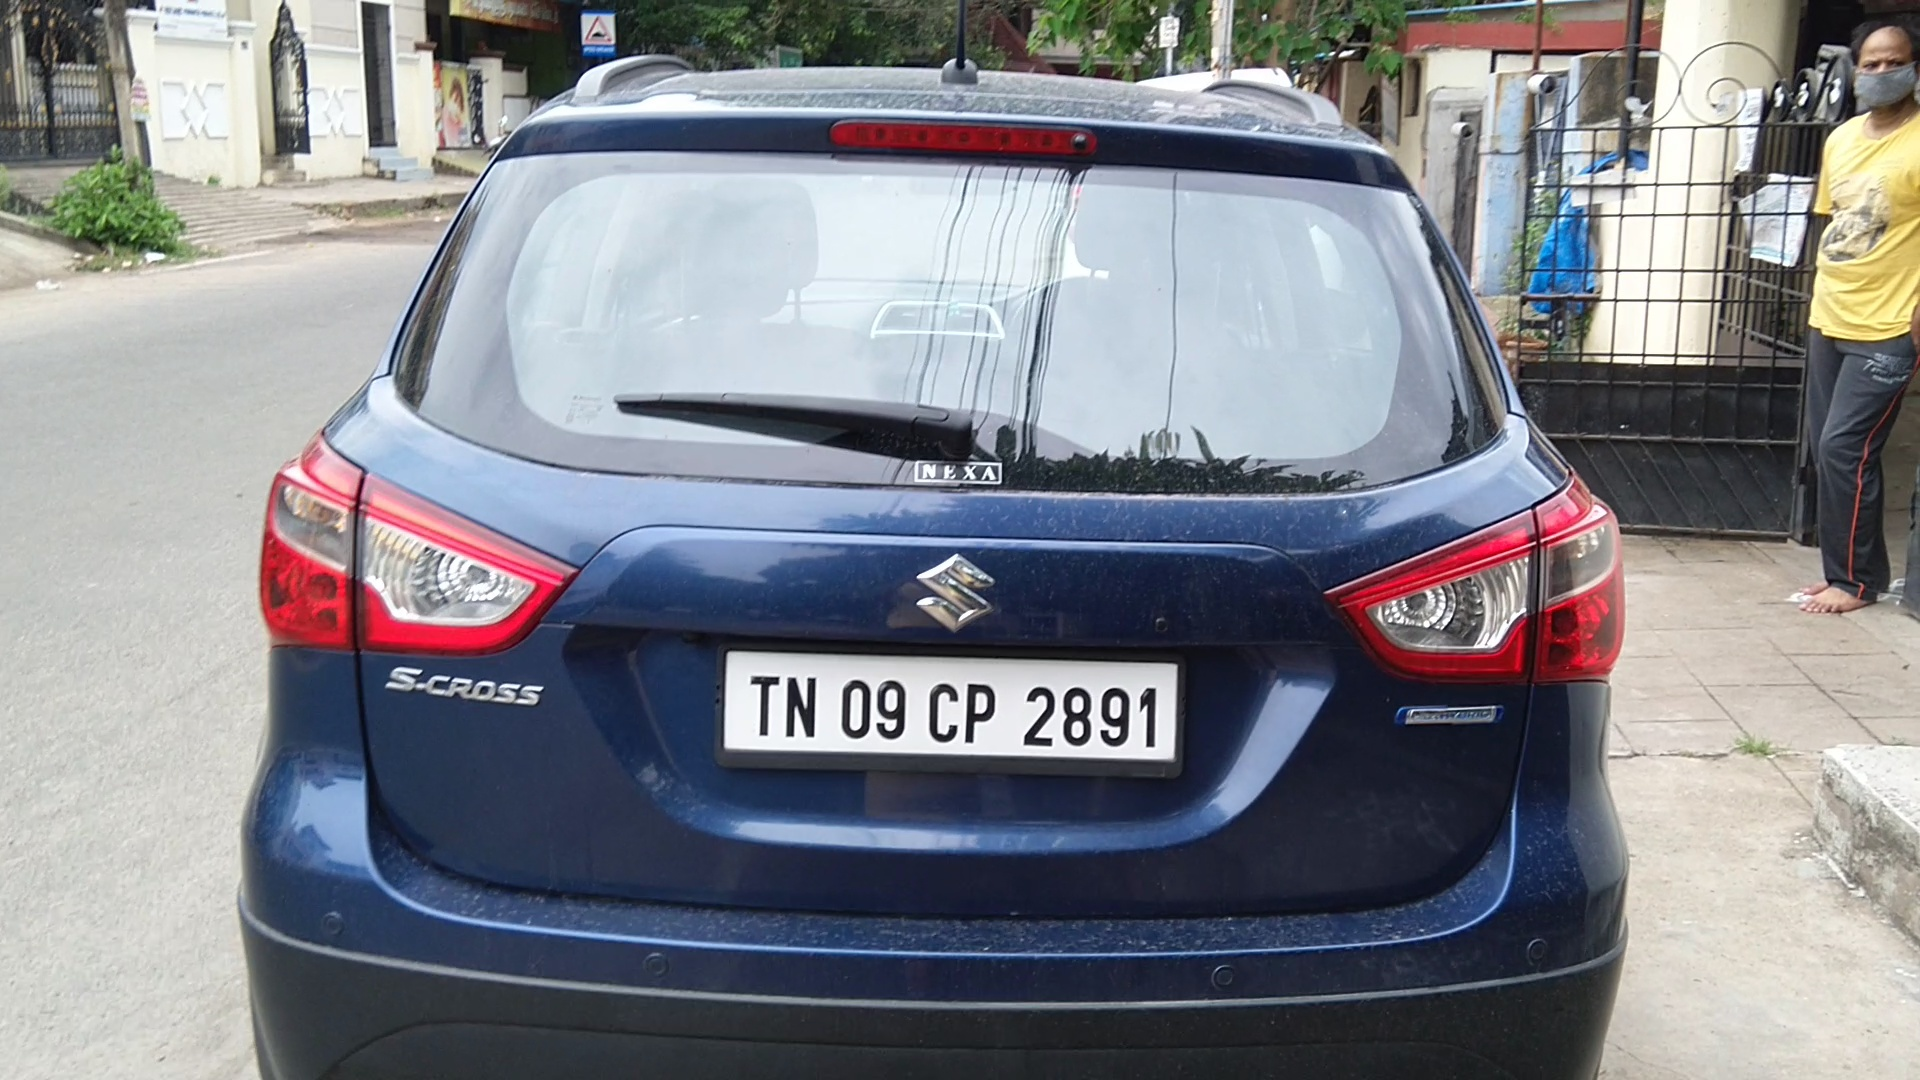rear_camera: (1062, 125, 1100, 164)
shvs: (1385, 696, 1514, 746)
